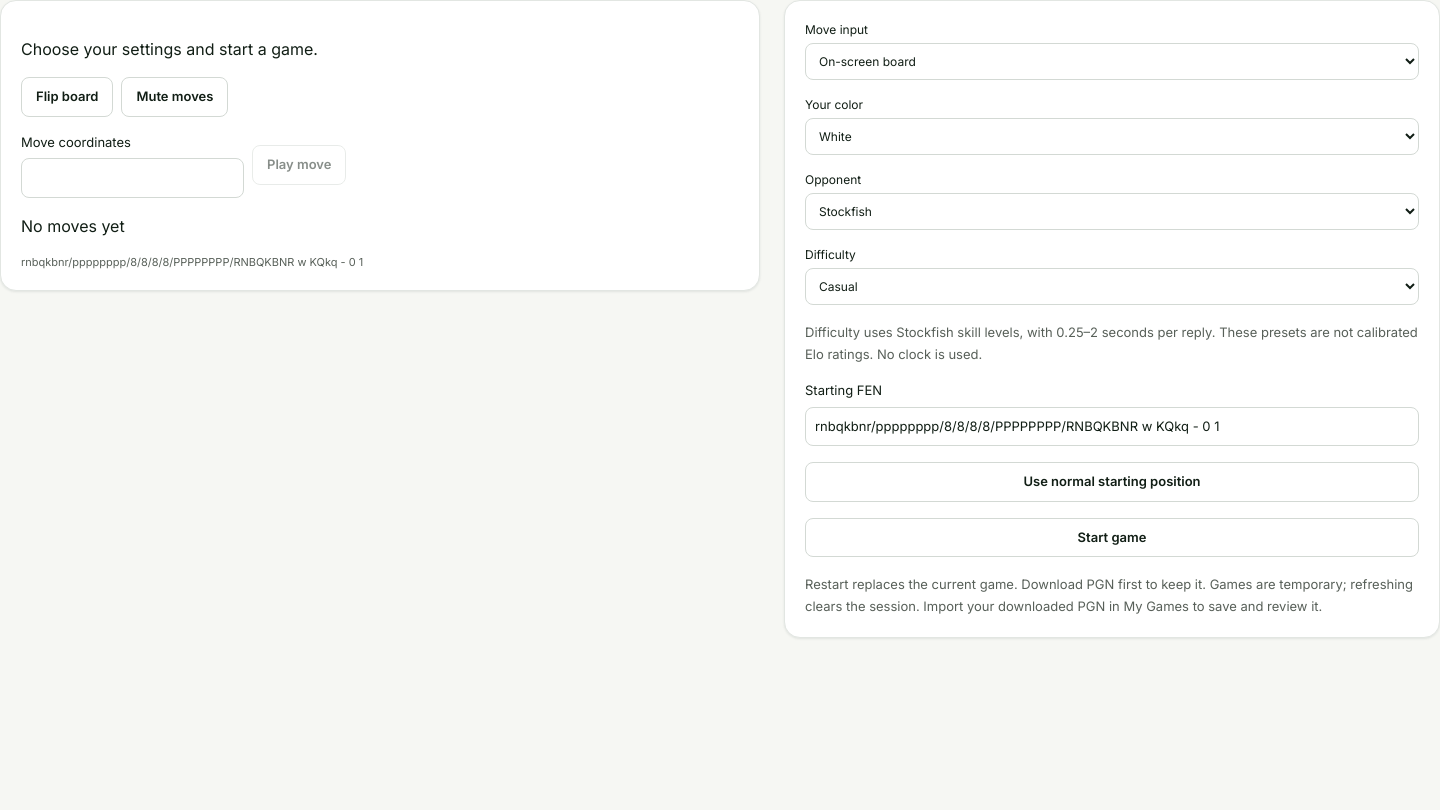
loads custom starts, offers underpromotion, and ends a drawn game without an engine request
Replace the text in the field labelled "Starting FEN" with "7k/P7/8/8/8/8/8/7K w - - 0 1": (1112,426) [805,407,1419,446]
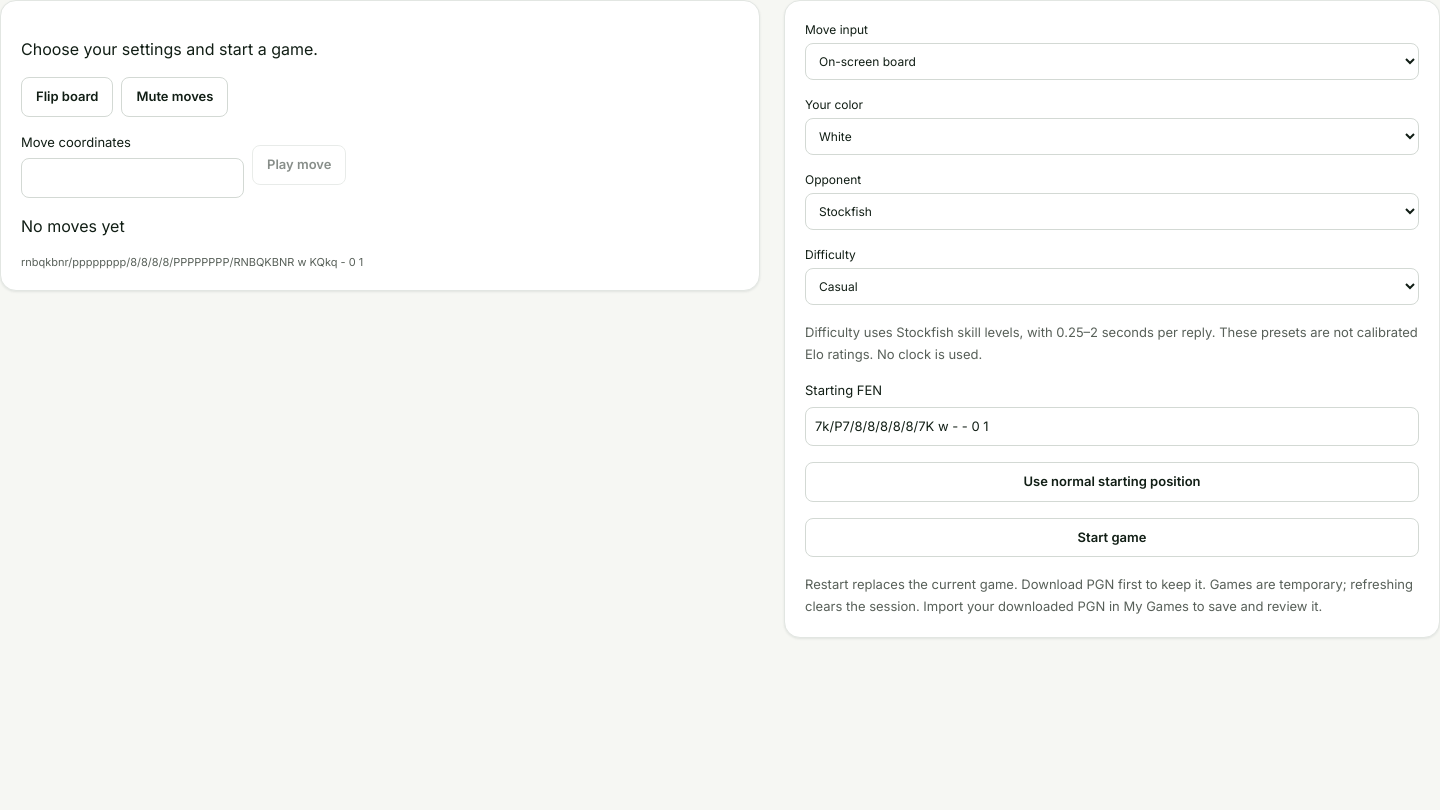
Click the button "Start game": (1112,537) [805,518,1419,557]
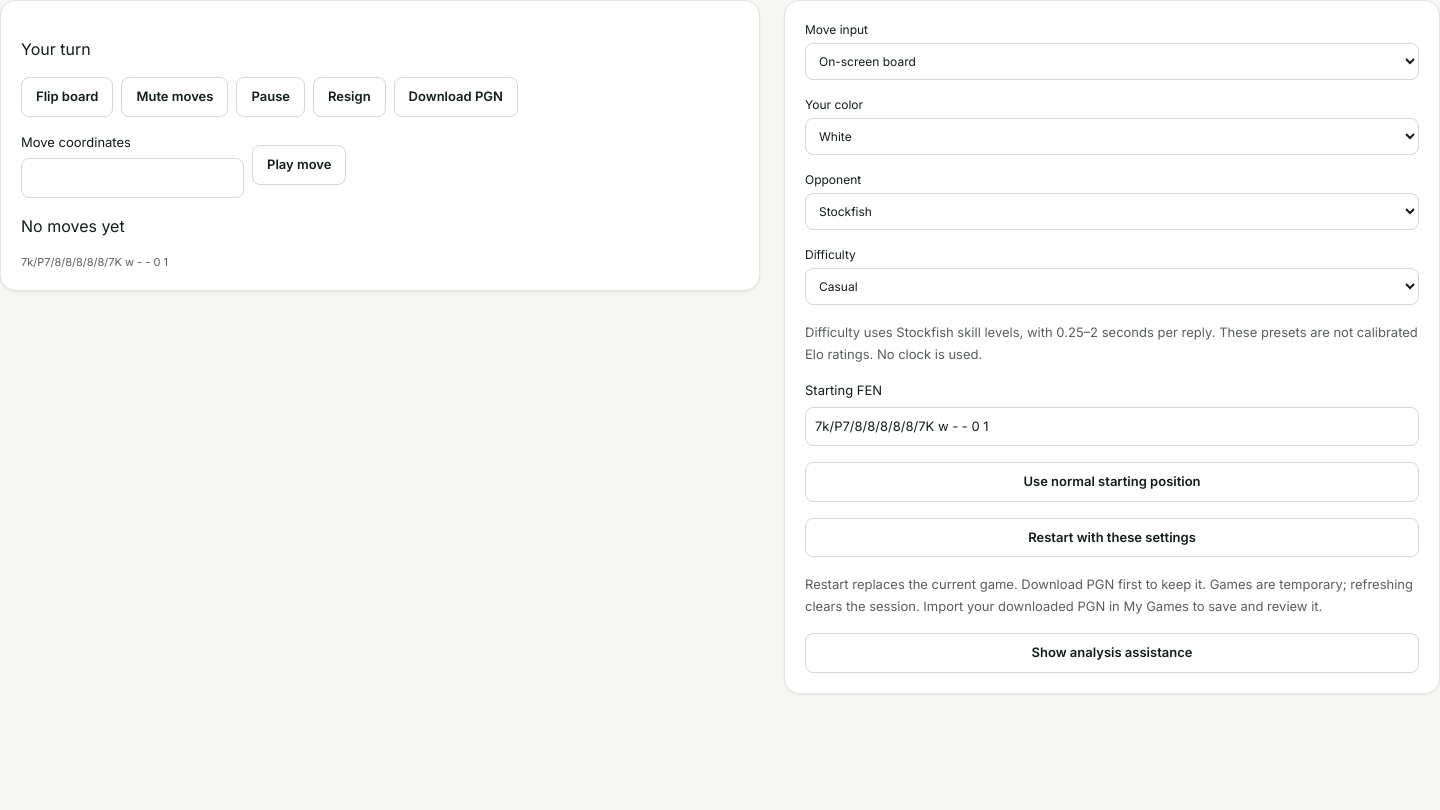
In the field labelled "Move coordinates": (132,178) [21,158,244,198], type "a7a8"
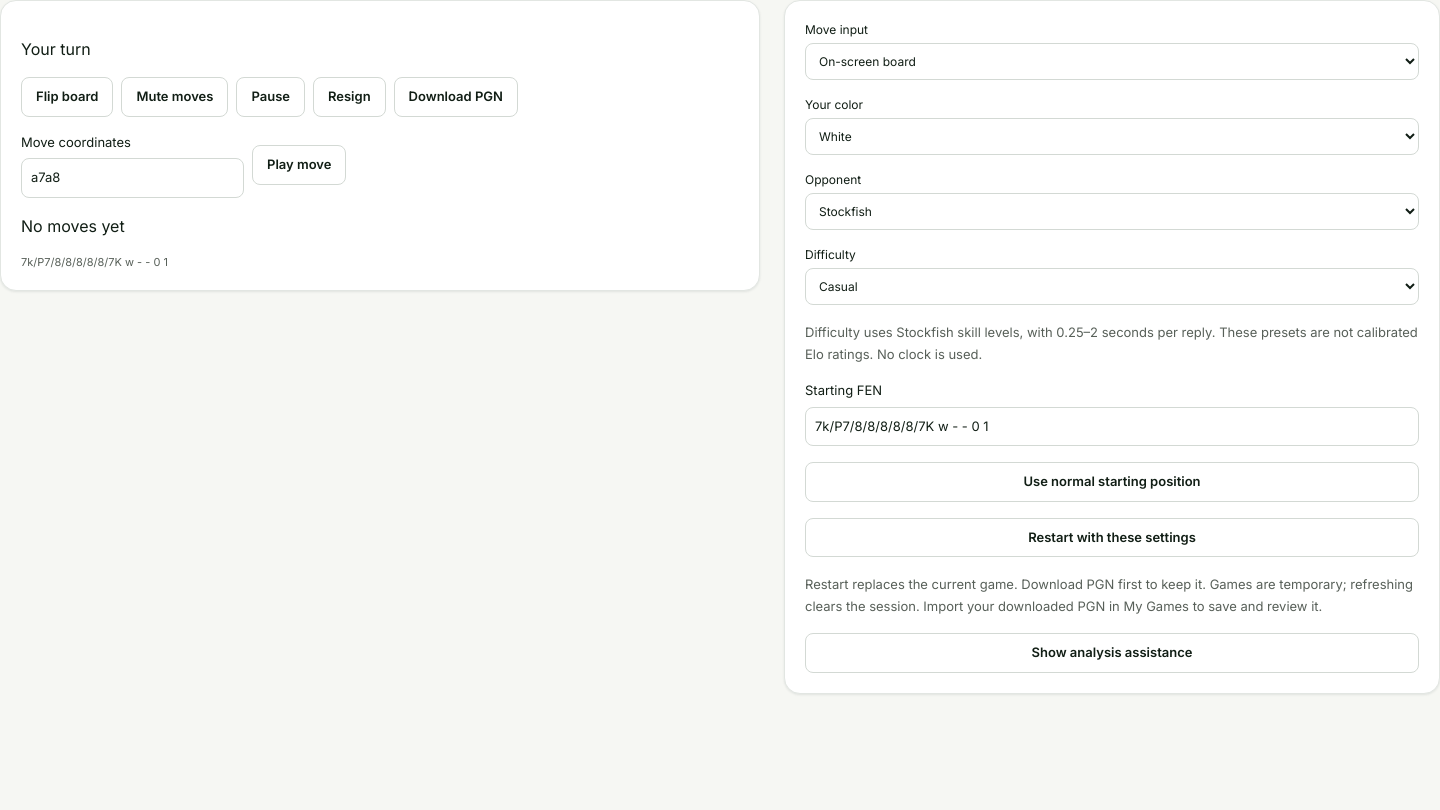
Click the button "Play move": (299,165) [252,145,346,185]
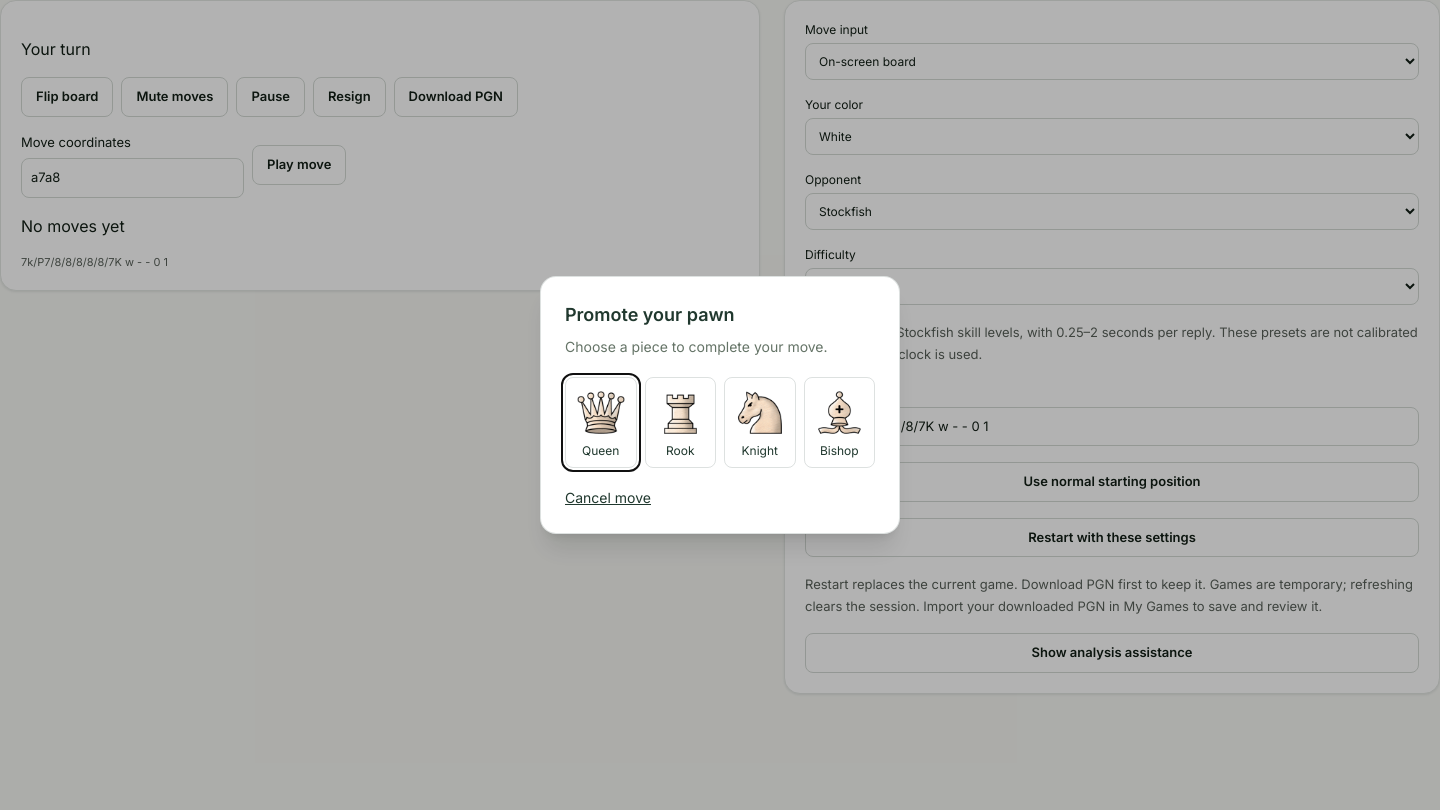
Click the button with aria-label "Promote to knight": (760,423) [724,377,796,468]
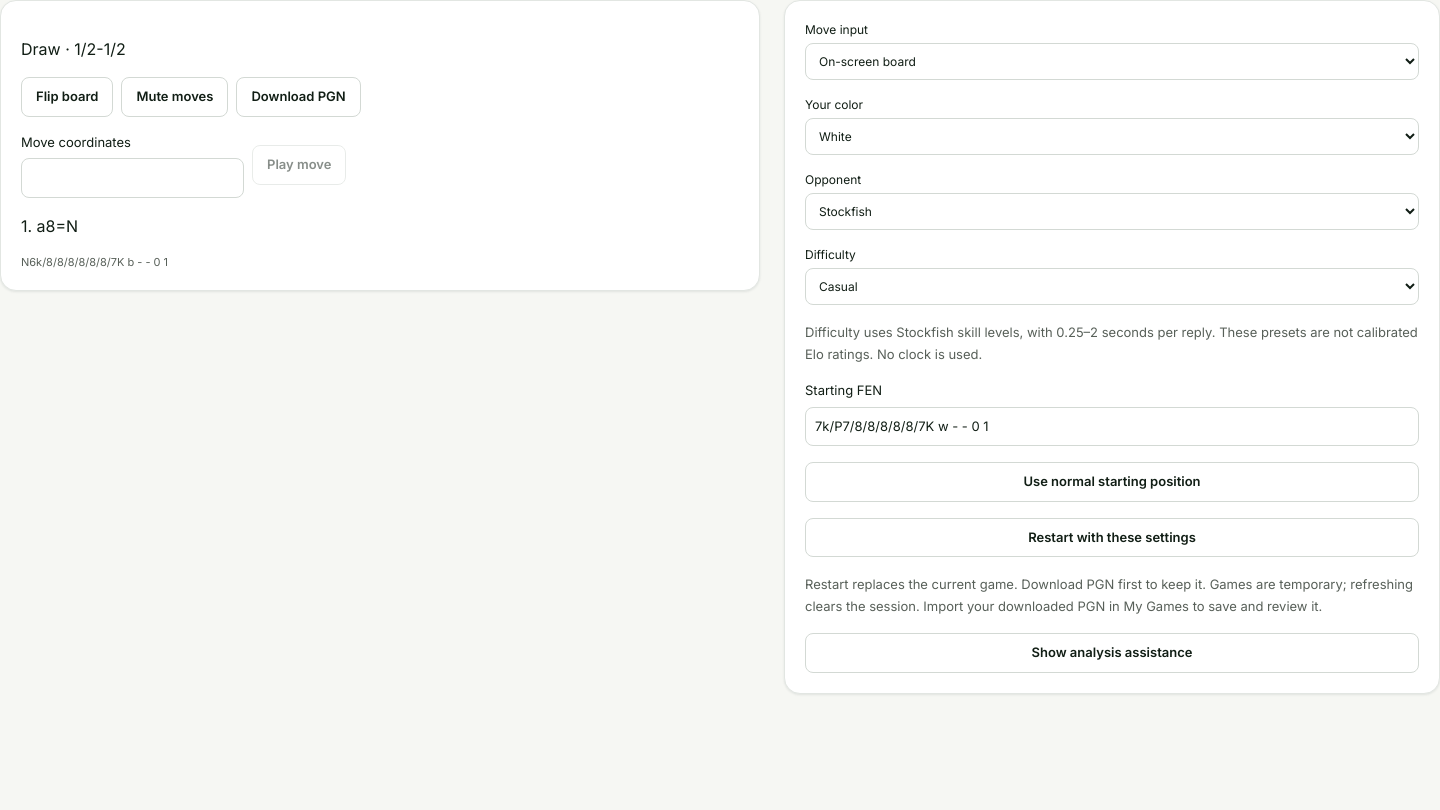
Expected: the message named "Game status" reads "Draw · 1/2-1/2", [21,39,126,59]
